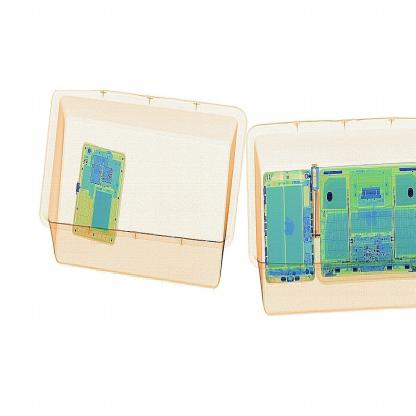wrench: (302, 152, 330, 252)
